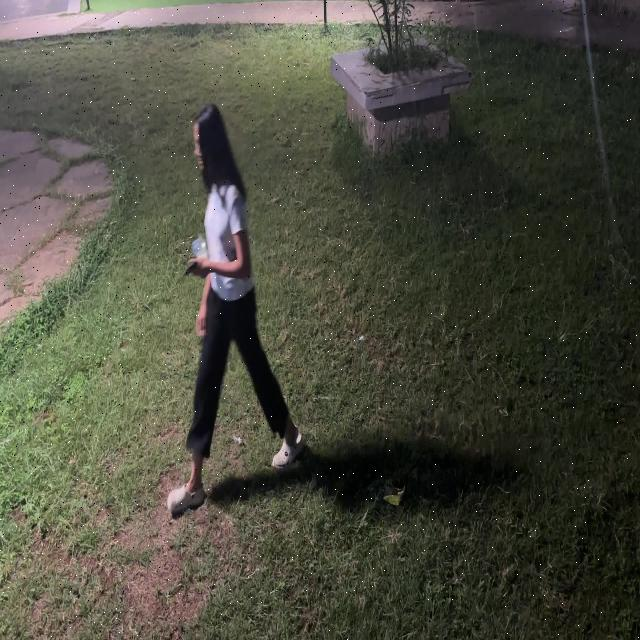human: (151, 104, 313, 519)
trash: (383, 485, 408, 509)
